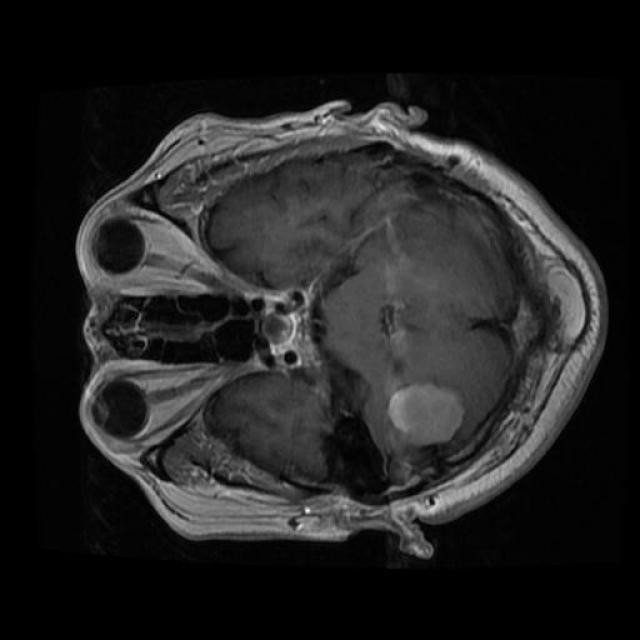Meningioma: (387, 383, 464, 446)
